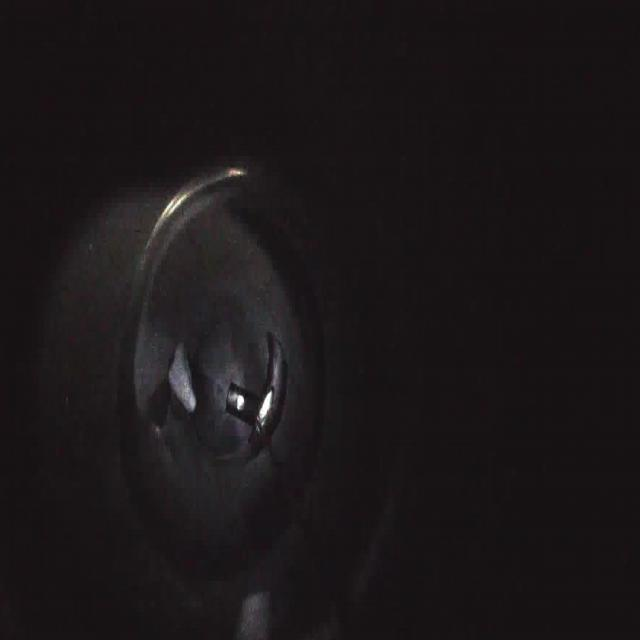impurity: (160, 325, 208, 417)
